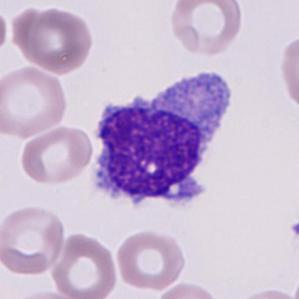Monocyte: (85, 66, 236, 218)
Platelets: (286, 218, 299, 242)
RBC: (9, 3, 97, 75), (0, 64, 70, 140), (0, 202, 67, 277), (17, 123, 95, 187), (48, 230, 120, 299), (113, 227, 188, 292), (166, 0, 245, 57), (277, 31, 299, 112), (154, 279, 225, 299), (230, 285, 298, 299), (9, 289, 83, 299), (0, 5, 11, 58)
